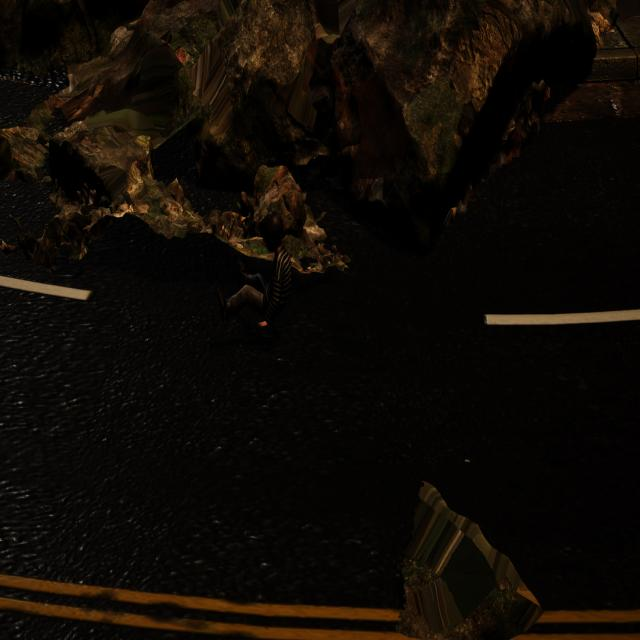Human: (212, 204, 298, 345)
